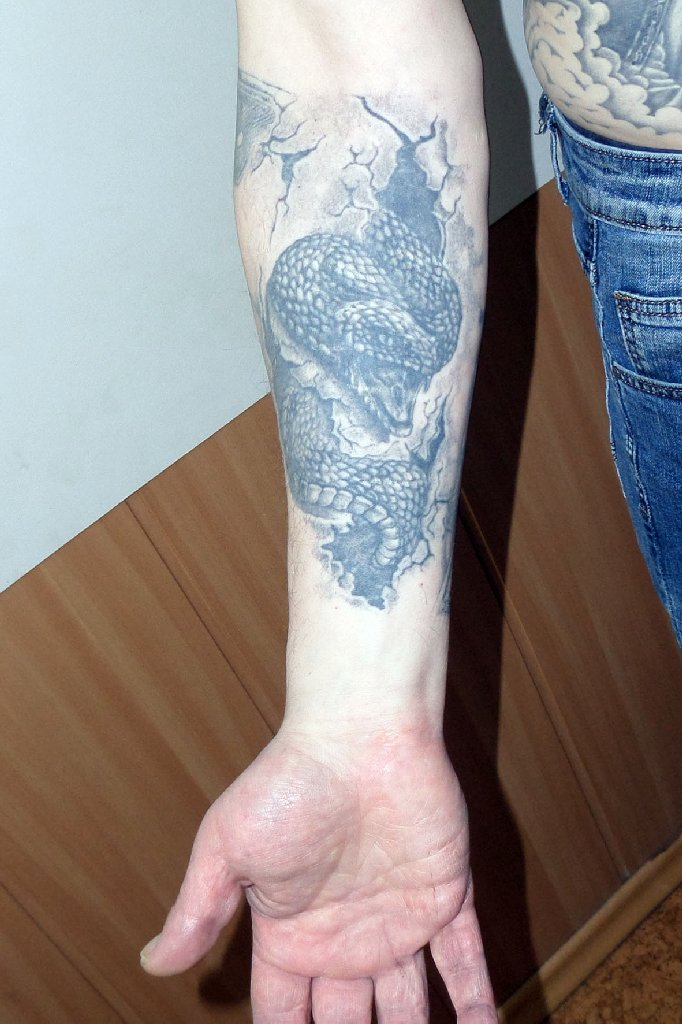tatu7_zmeya: (206, 98, 558, 664)
